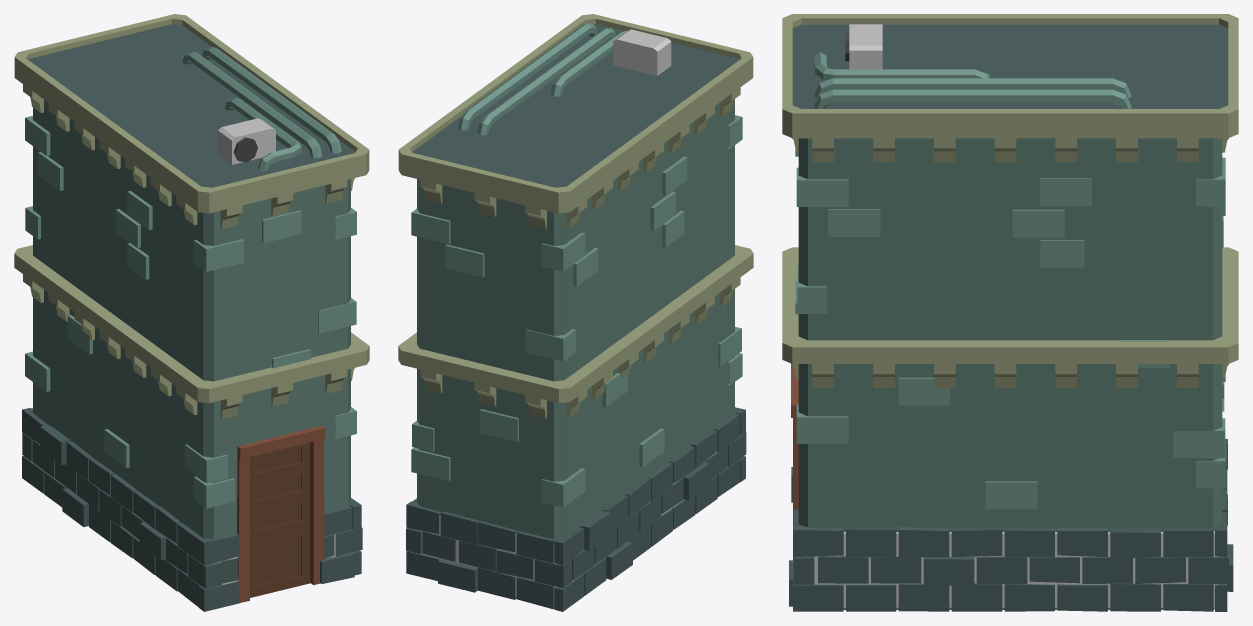
File: 2story_slim_mat.glb
3 renders of one model, left to right at view 1: azimuth 30°, elevation 25°; view 2: azimuth 150°, elevation 25°; view 3: azimuth 270°, elevation 25°, orthographic. The views are drawn at different scales.
Visible parts, largest first — view 1: 2Story_Slim_Mat; view 2: 2Story_Slim_Mat; view 3: 2Story_Slim_Mat.
Boxes of the visible parts, <box> form: 2Story_Slim_Mat: <box>14,14,369,611</box>; 2Story_Slim_Mat: <box>398,14,753,611</box>; 2Story_Slim_Mat: <box>782,14,1238,611</box>.
Bounding box in the file's own units: 1.12 × 2.76 × 2.15.
